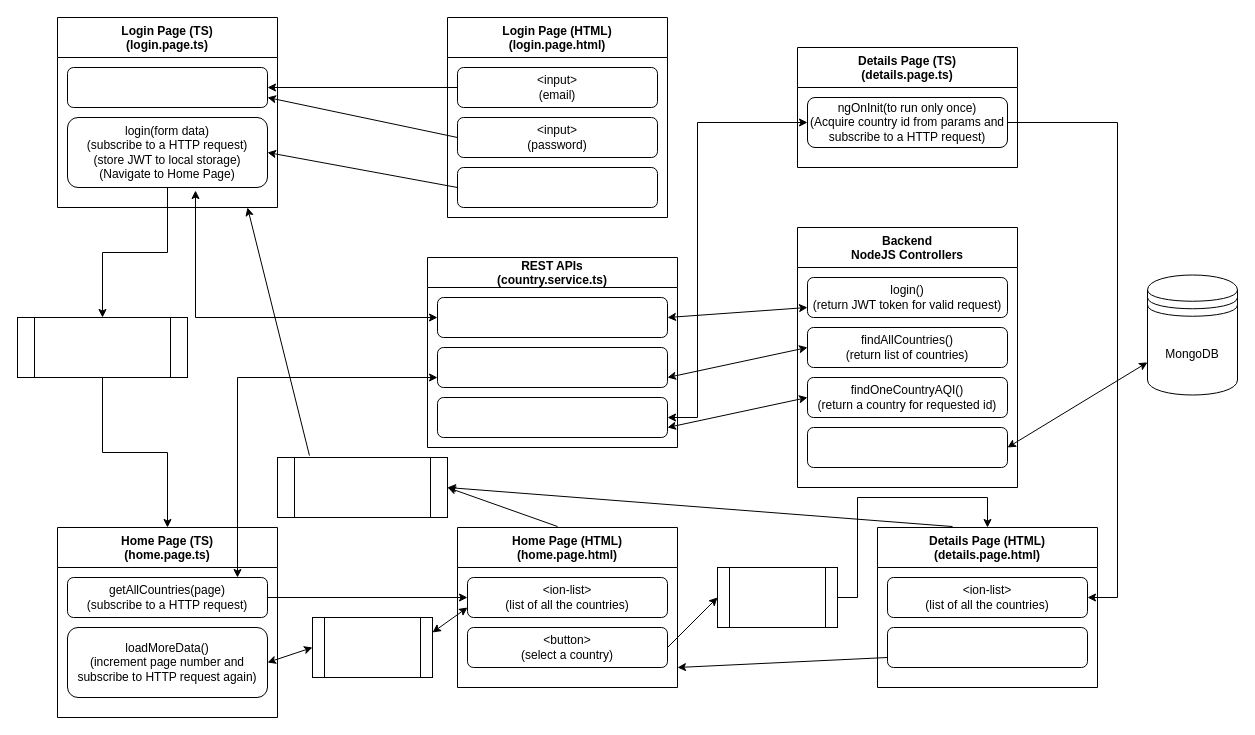
Image size: 1255x735. Some labels were removed from this diagram. Here are the shapes that lost their labels. From the top down, the centre of each, then its label:
At point (167, 87): "ngOninit(to run only once) (Define form group instance)".
At point (557, 187): "<button> (submit form)".
At point (552, 317): "HTTP POST request login(user) (response: JWT)".
At point (102, 347): "(app-routing.module.ts) (authguard.ts)".
At point (552, 367): "HTTP GET request getAllCountries(page) (response: list of countries with AQI)".
At point (552, 417): "HTTP GET request getCountryById(id) (response: details of a country)".
At point (907, 447): "Database Connection (config/database.js)".
At point (362, 487): "(app-routing.module.ts) (signinguard.ts)".
At point (777, 597): "routerLink(id)".
At point (372, 647): "Infinite Scroll".
At point (987, 647): "<button> (back to list)".
